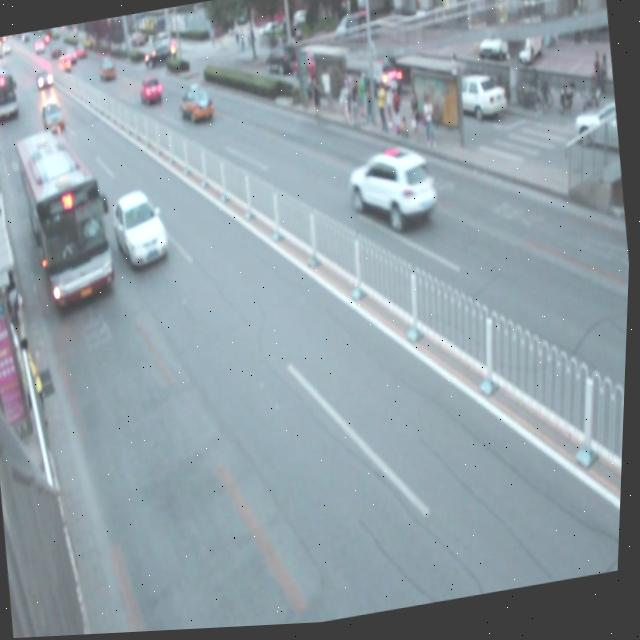car: (343, 142, 441, 241), (109, 186, 174, 272), (177, 83, 216, 131), (137, 72, 165, 112), (39, 100, 67, 136)
van: (8, 123, 122, 312)
